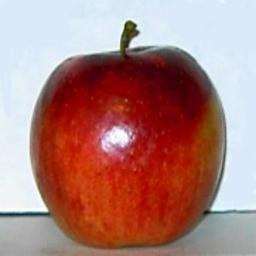apple: (27, 43, 228, 249)
